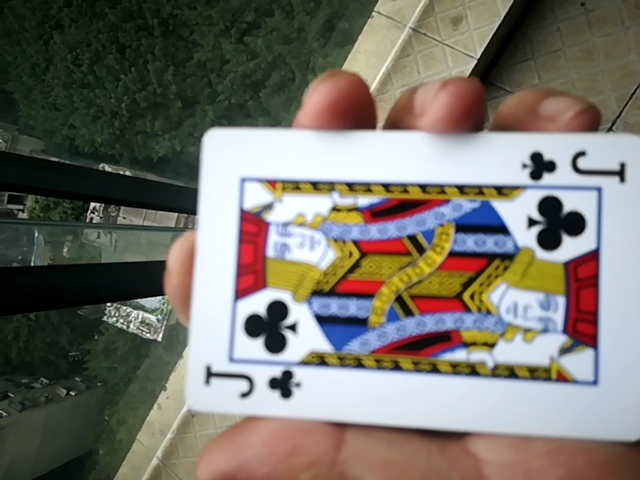mh j: (166, 134, 628, 444)
